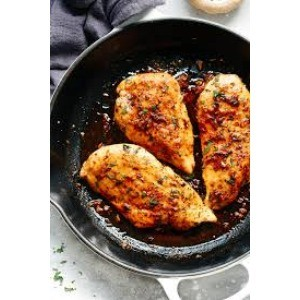chicken breast_brain food: (92, 166, 185, 213), (120, 89, 178, 138), (201, 111, 239, 150)
